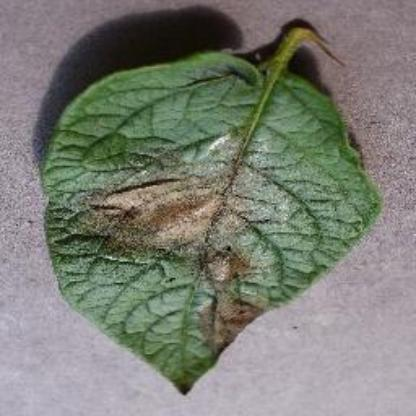Late-Blight: (35, 19, 396, 400)
